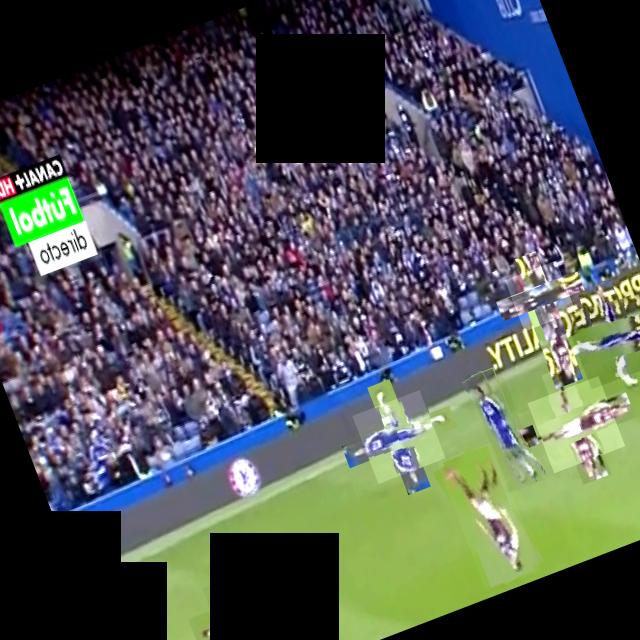referee: (504, 260, 574, 331)
soccer-player: (436, 441, 540, 591), (464, 363, 542, 492), (201, 555, 315, 640), (526, 376, 624, 472), (352, 389, 444, 484), (562, 286, 640, 388), (525, 300, 583, 388)
